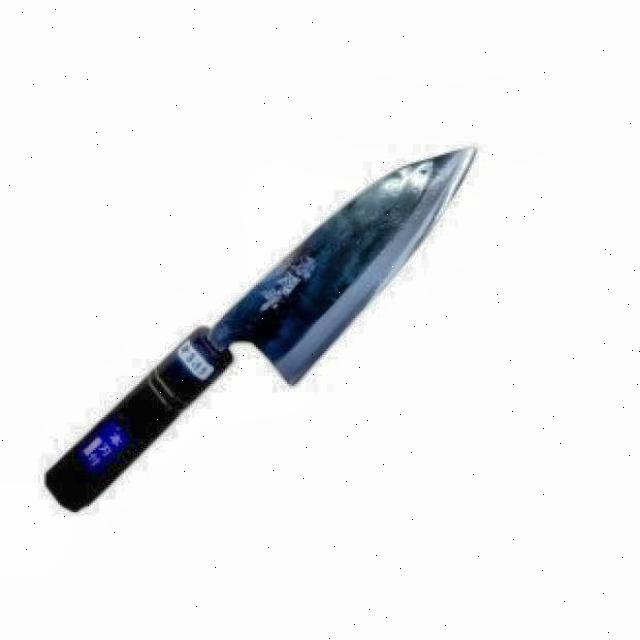knife: (40, 146, 478, 516)
